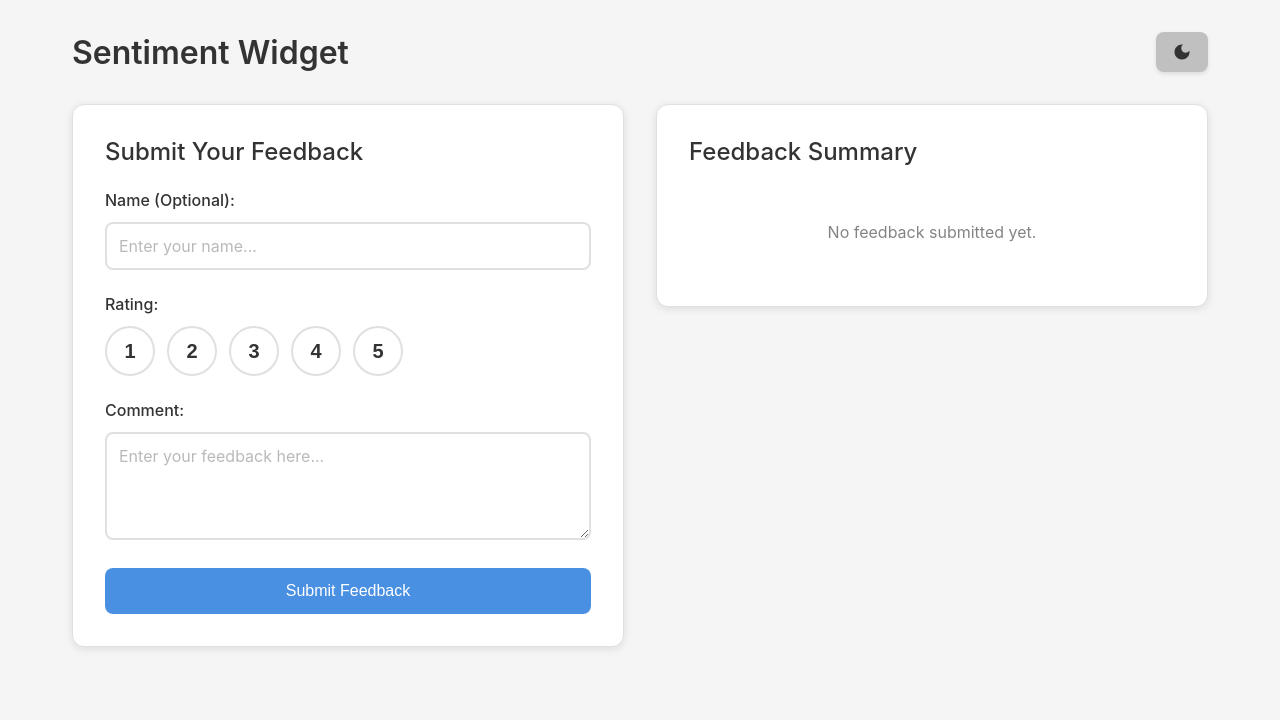
Test case: App Integration Tests › updates summary panel after submission
Expected: the text "No feedback submitted yet." is shown, [828,222,1036,242]
# Submit first feedback
Type "Alice" into the field with placeholder "Enter your name...". click: (348, 246)
box: [105,222,591,270]
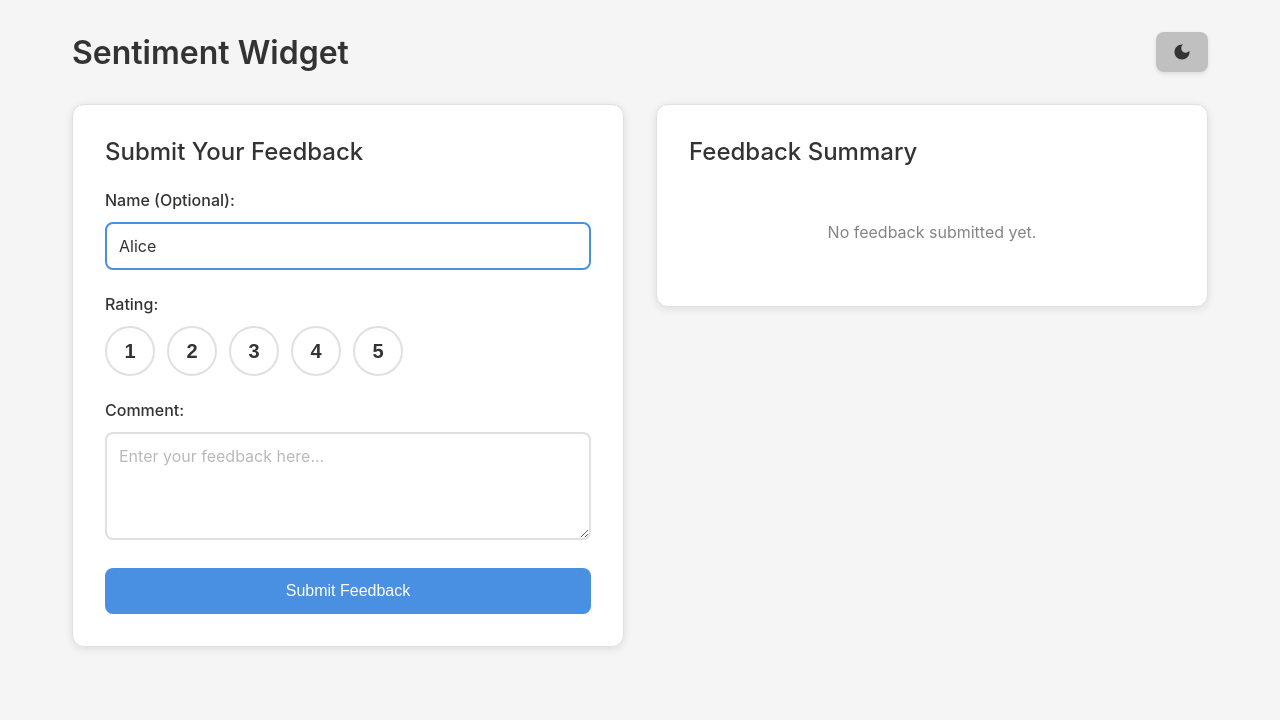
Click the button named "Rating 5". click: (378, 351)
box: [353,326,403,376]
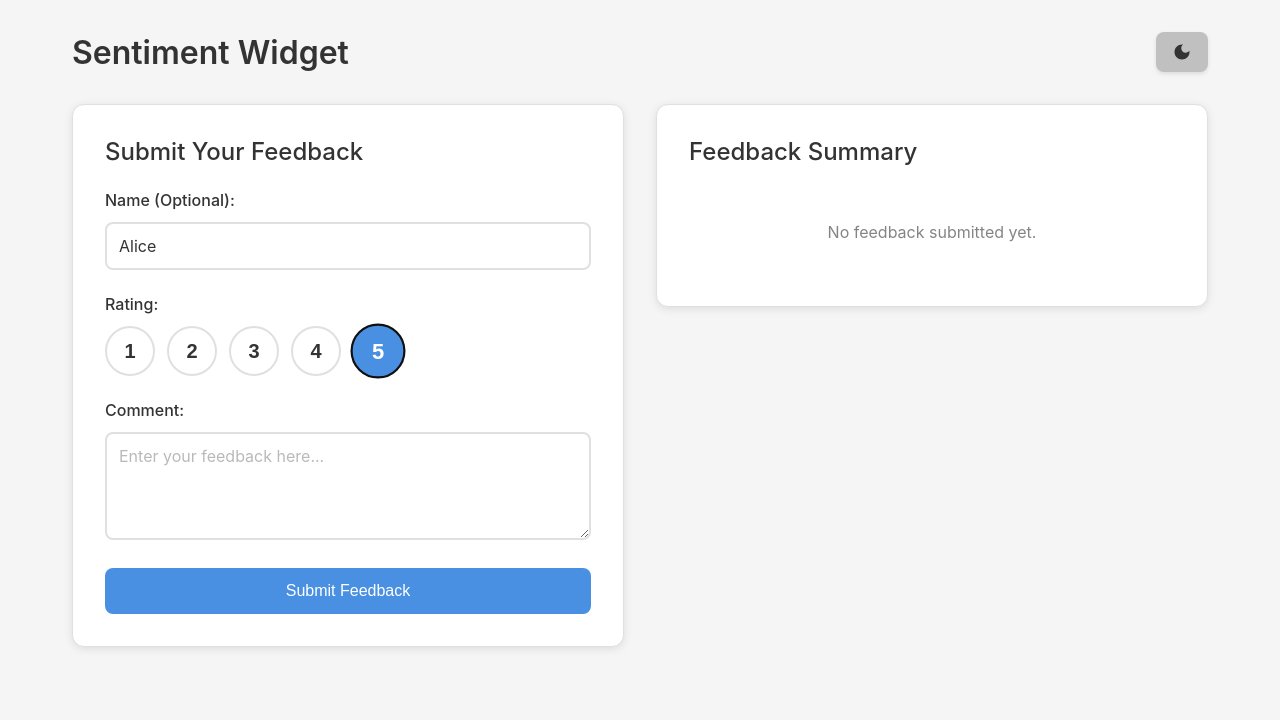
Type "Excellent!" into the text box with placeholder "Enter your feedback here...". click: (348, 486)
box: [105,432,591,540]
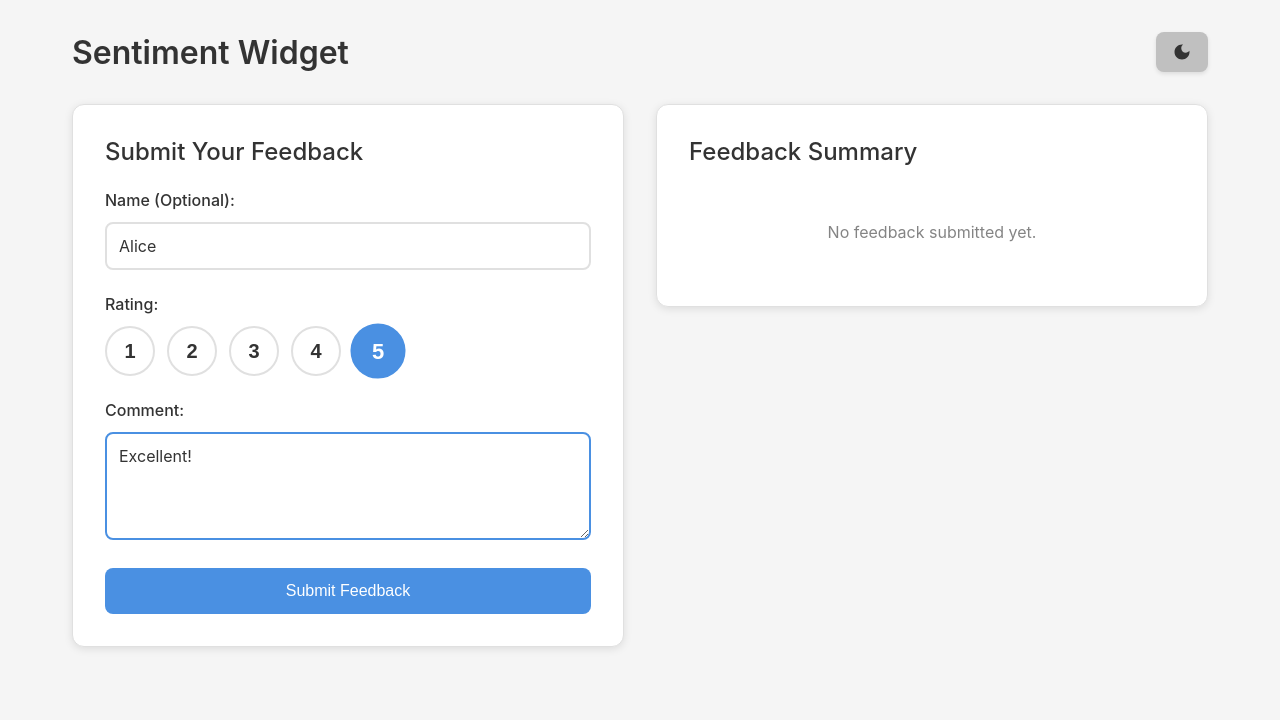
Click the button "Submit Feedback". click: (348, 591)
box: [105,568,591,614]
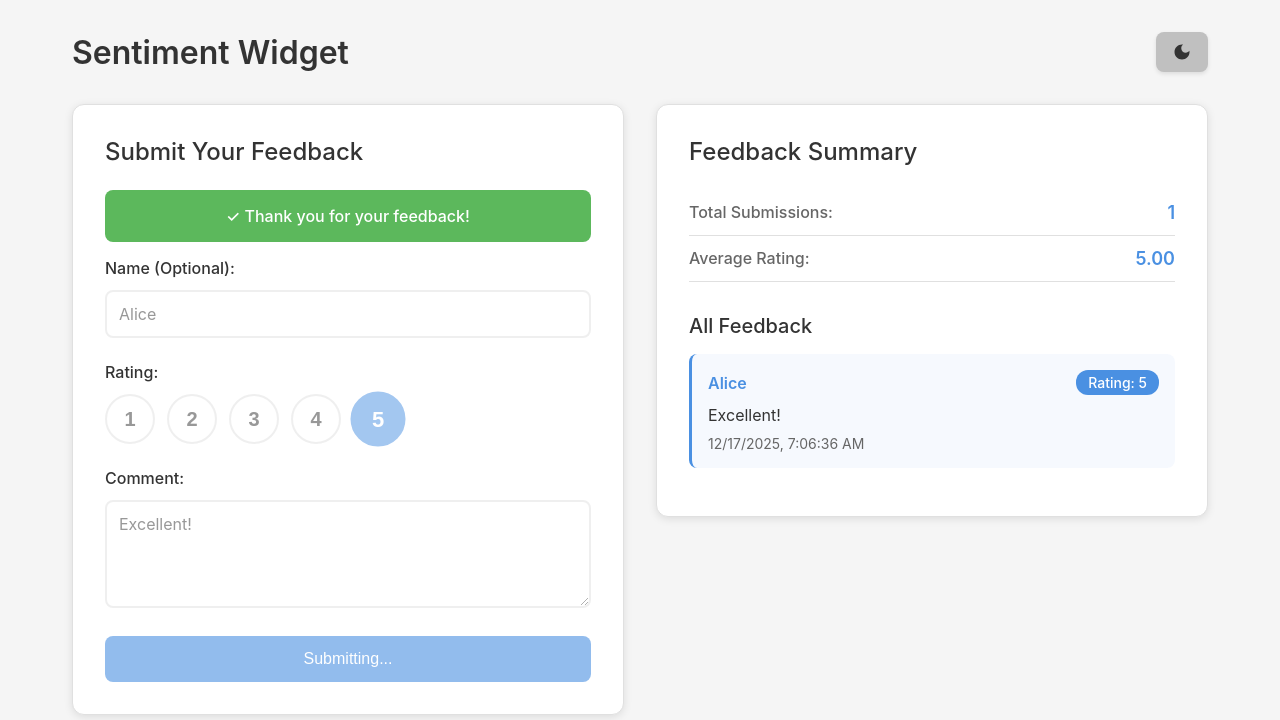
Now the text "Total Submissions:" is shown, box [689,202,833,223]
Now the text "5.00" is shown, box [1135,248,1175,269]
Now the text "Alice" is shown, box [708,372,747,392]
